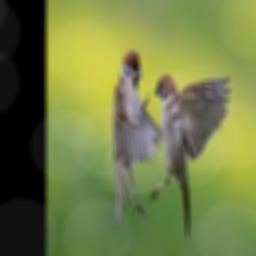Sparrow: (149, 74, 232, 237), (113, 48, 163, 232)
